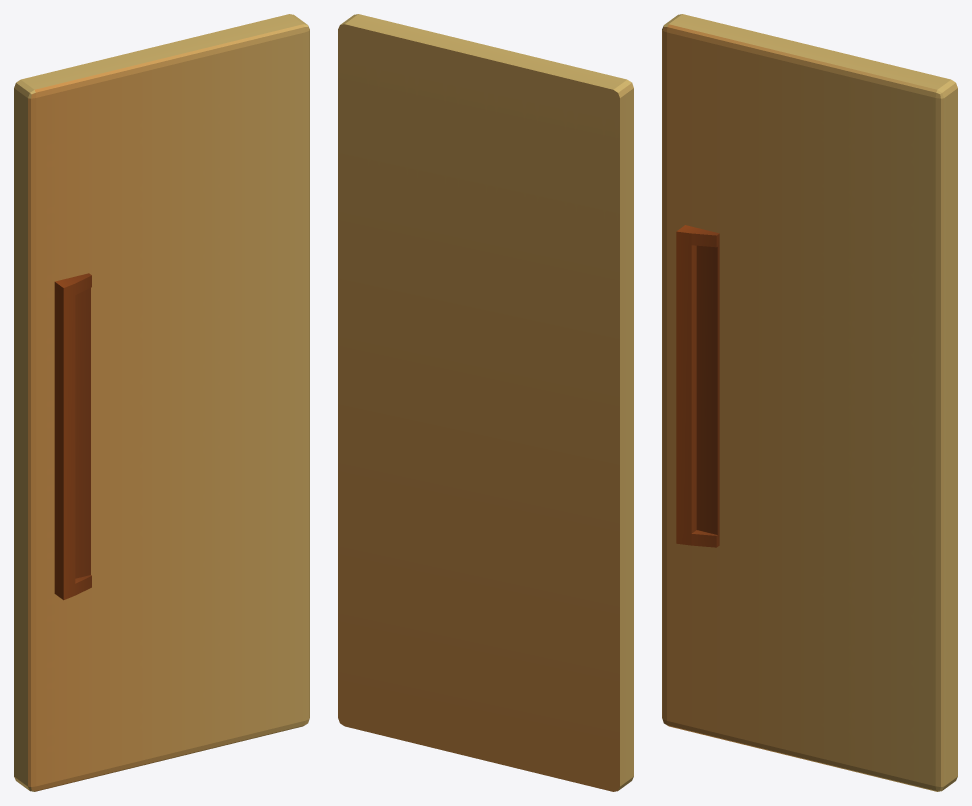
File: Busted Fridge Right Door.fbx
3 renders of one model, left to right at view 1: azimuth 30°, elevation 25°; view 2: azimuth 150°, elevation 25°; view 3: azimuth 330°, elevation 25°, orthographic.
Parts seen in each view (by area): view 1: fridge door; view 2: fridge door; view 3: fridge door.
Boxes of the visible parts, x1=… form: fridge door: x1=14, y1=14, x2=309, y2=791; fridge door: x1=338, y1=14, x2=633, y2=791; fridge door: x1=662, y1=14, x2=957, y2=791.
Size of the model in its own units: 219 by 520 by 33.14.
